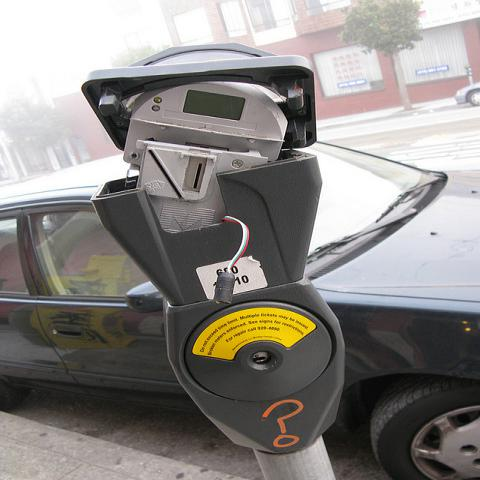car: (1, 139, 479, 475), (453, 81, 479, 107)
